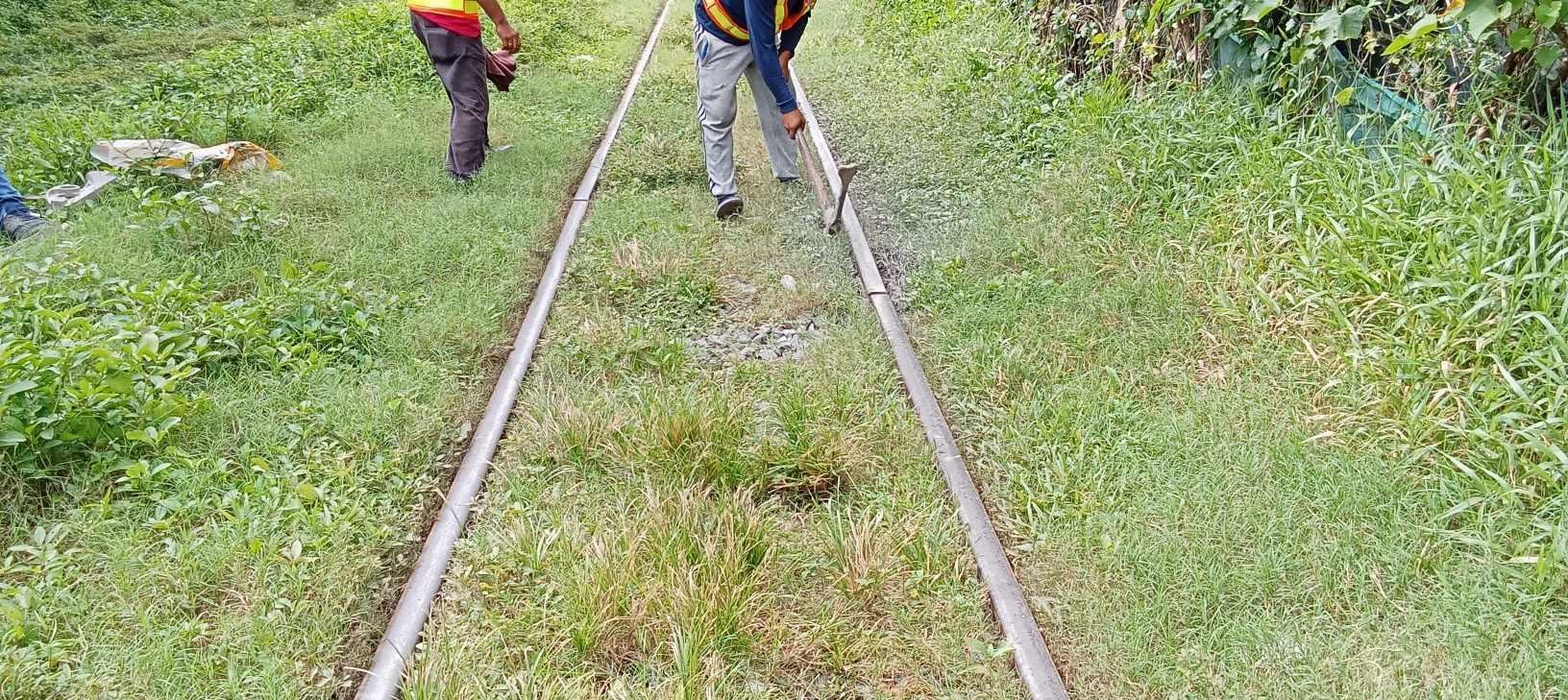railway-gap: (850, 261, 912, 321), (549, 174, 610, 225)
